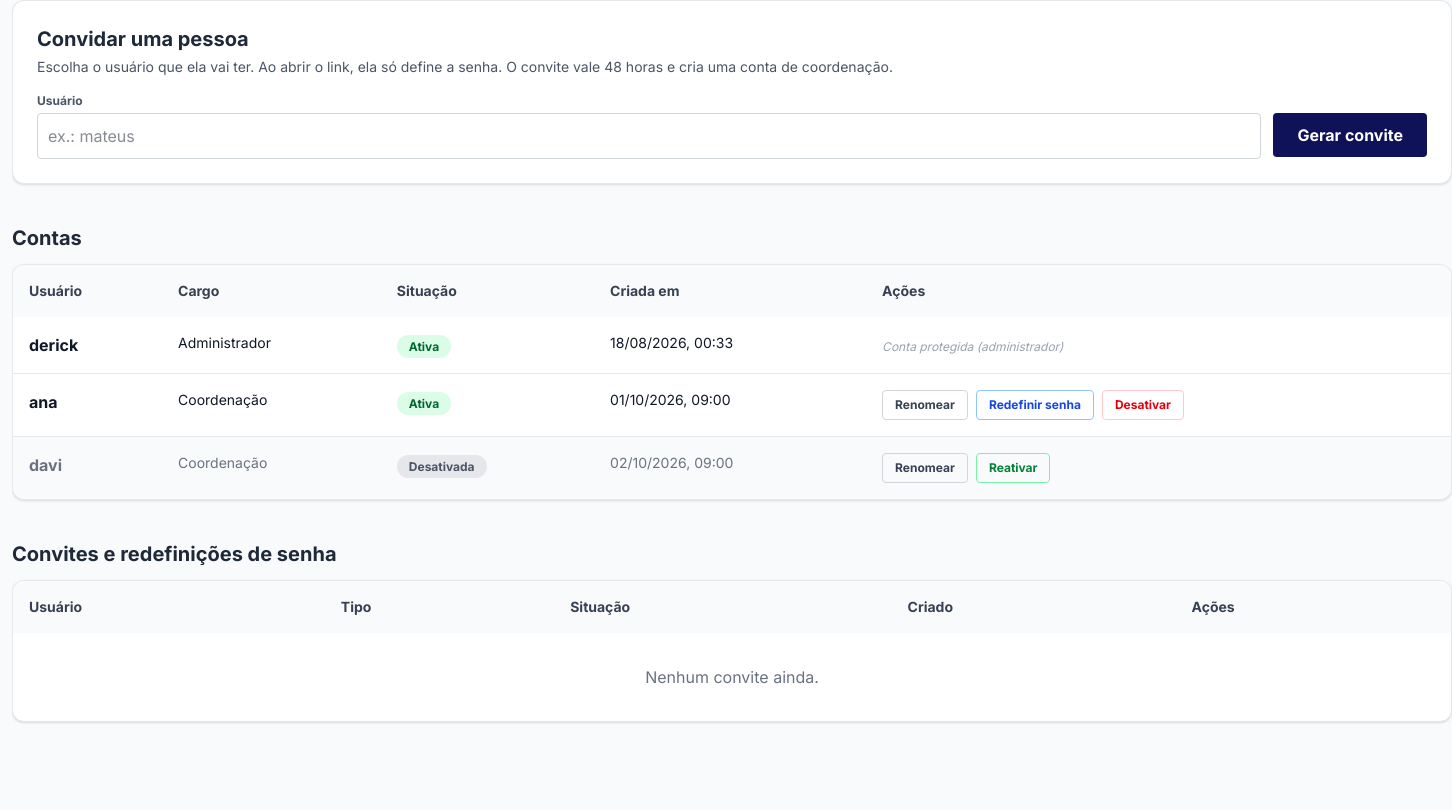
Test case: convidar › erro (por exemplo, usuário já existe) aparece ao lado do campo, sem apagar o que foi digitado
Type "ana" into the field with placeholder "ex.: mateus" at (649, 136), box [37,113,1262,159]
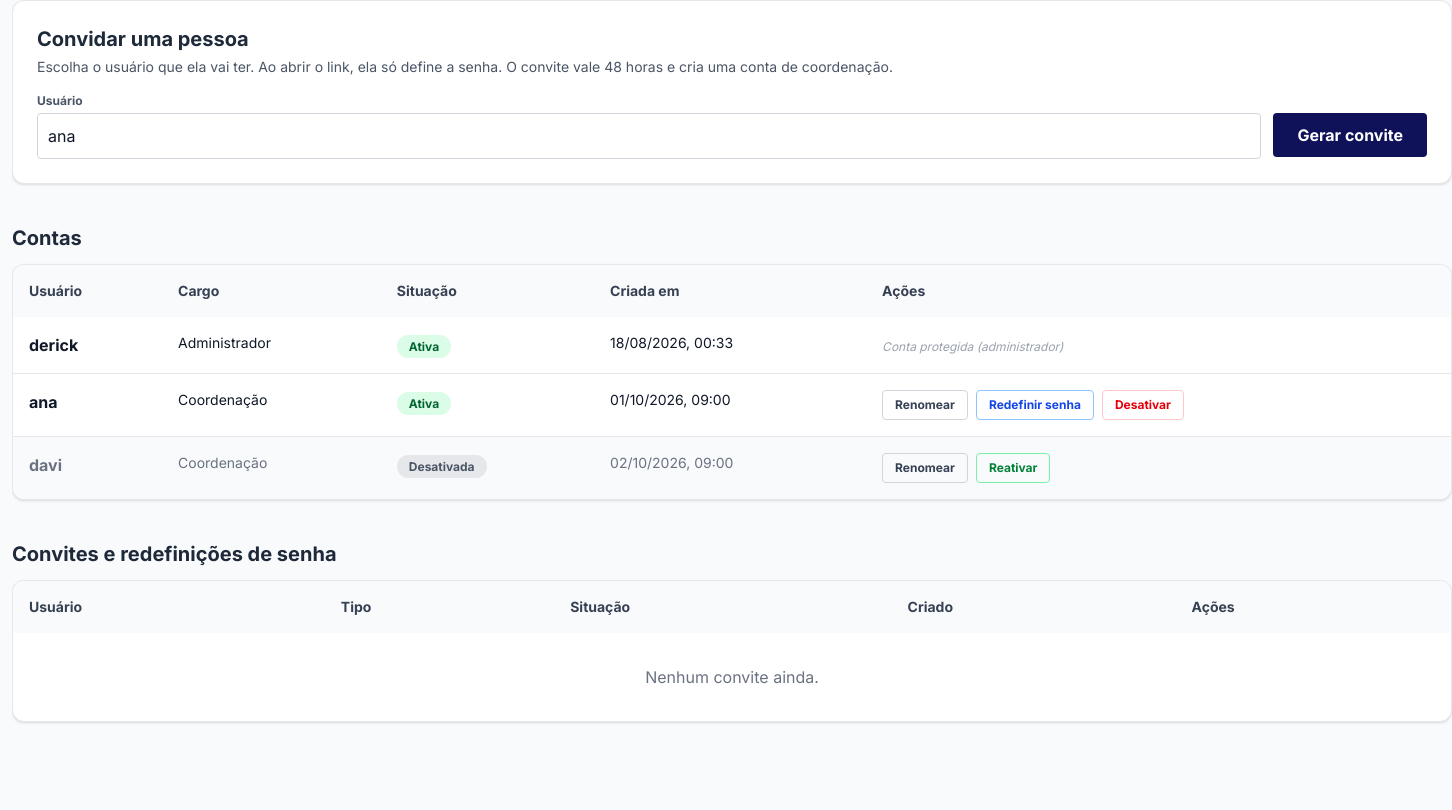
Click the button "Gerar convite" at (1350, 135), box [1274,113,1427,157]
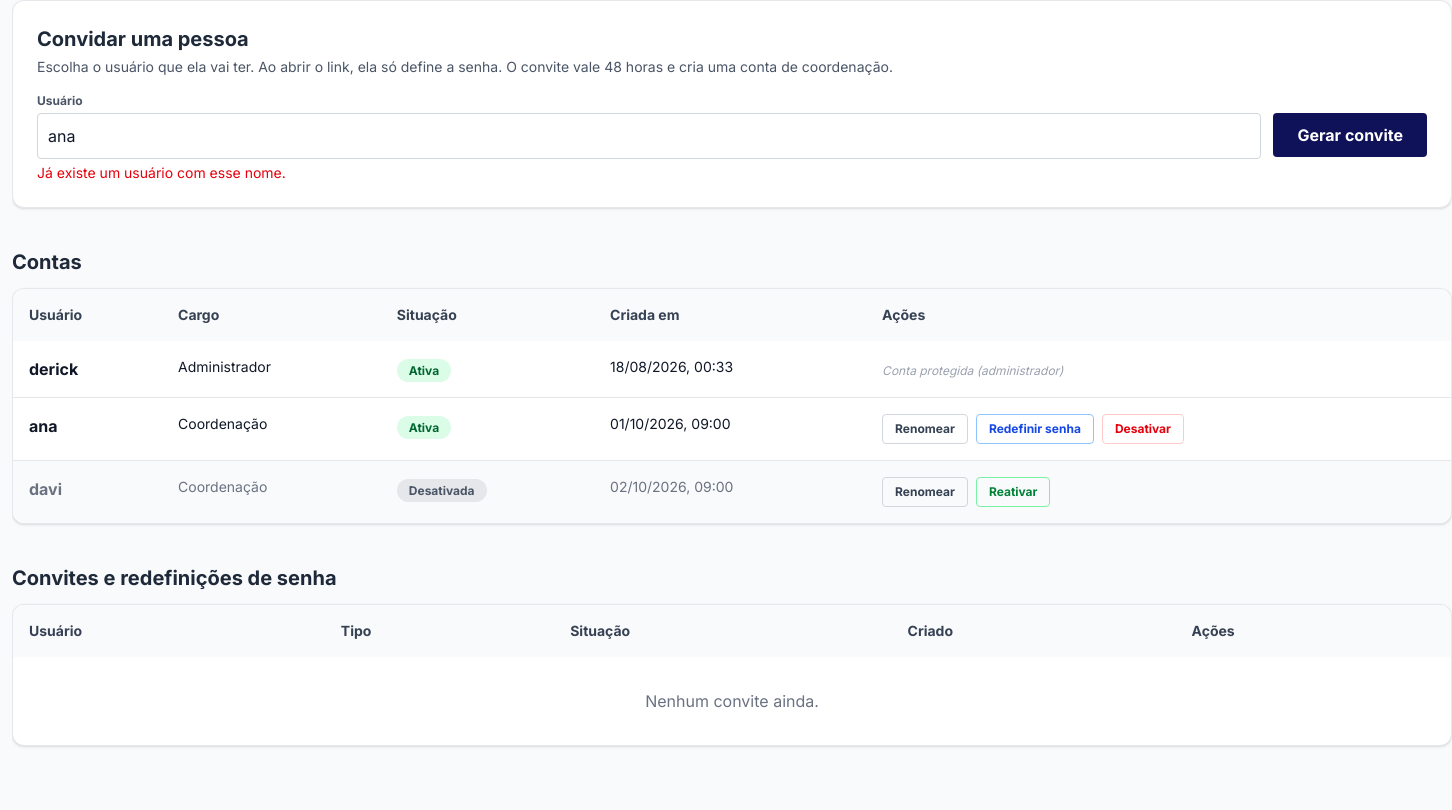
Check: the text "Já existe um usuário com esse nome." is shown, box [37,164,286,181]
